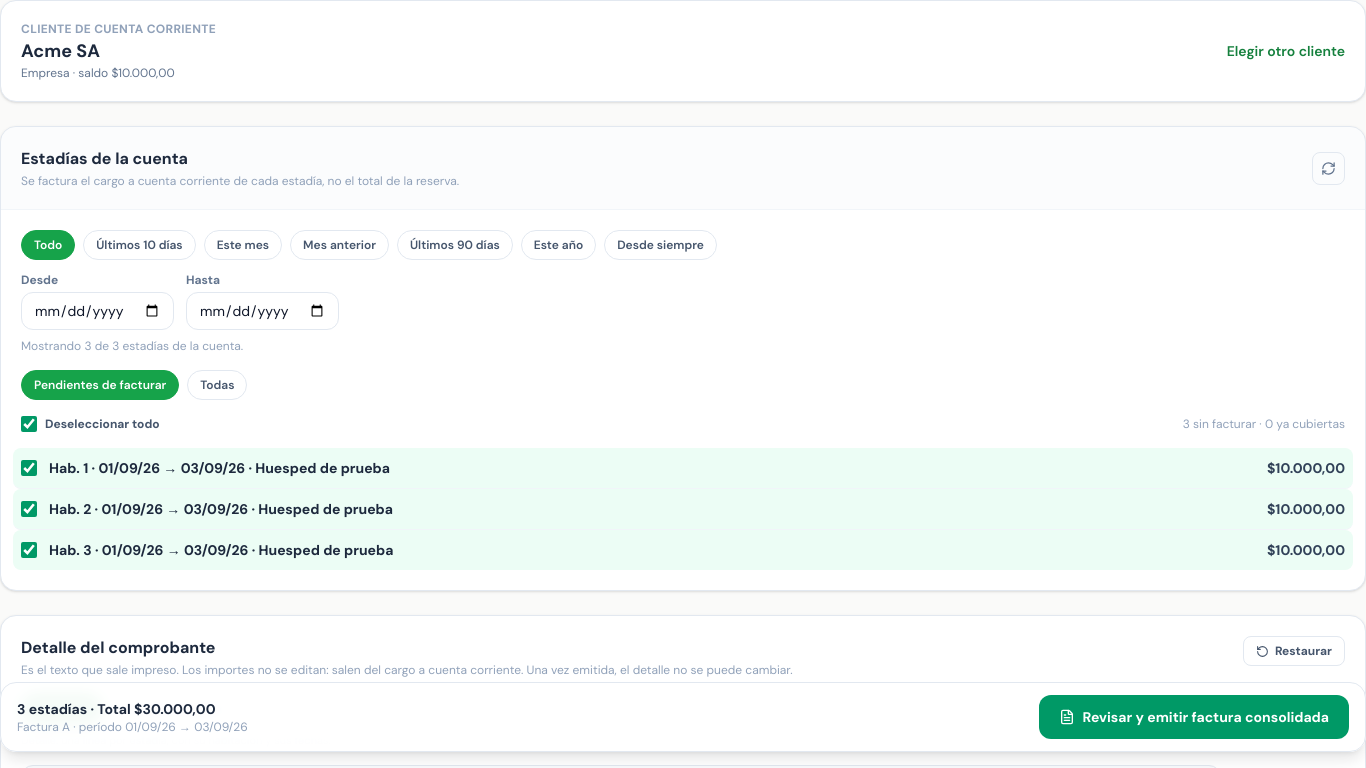
Test case: ConsolidadaClient › el filtro por período acota la lista y el contador dice cuántas quedaron afuera
This screenshot has width=1366, height=768.
Expected: the text "Mostrando 3 de 3 estadías de la cuenta." is shown, 21,338 -> 243,354
Step 1. Click the button "Este año" → (558, 245), box 521,230 -> 596,260
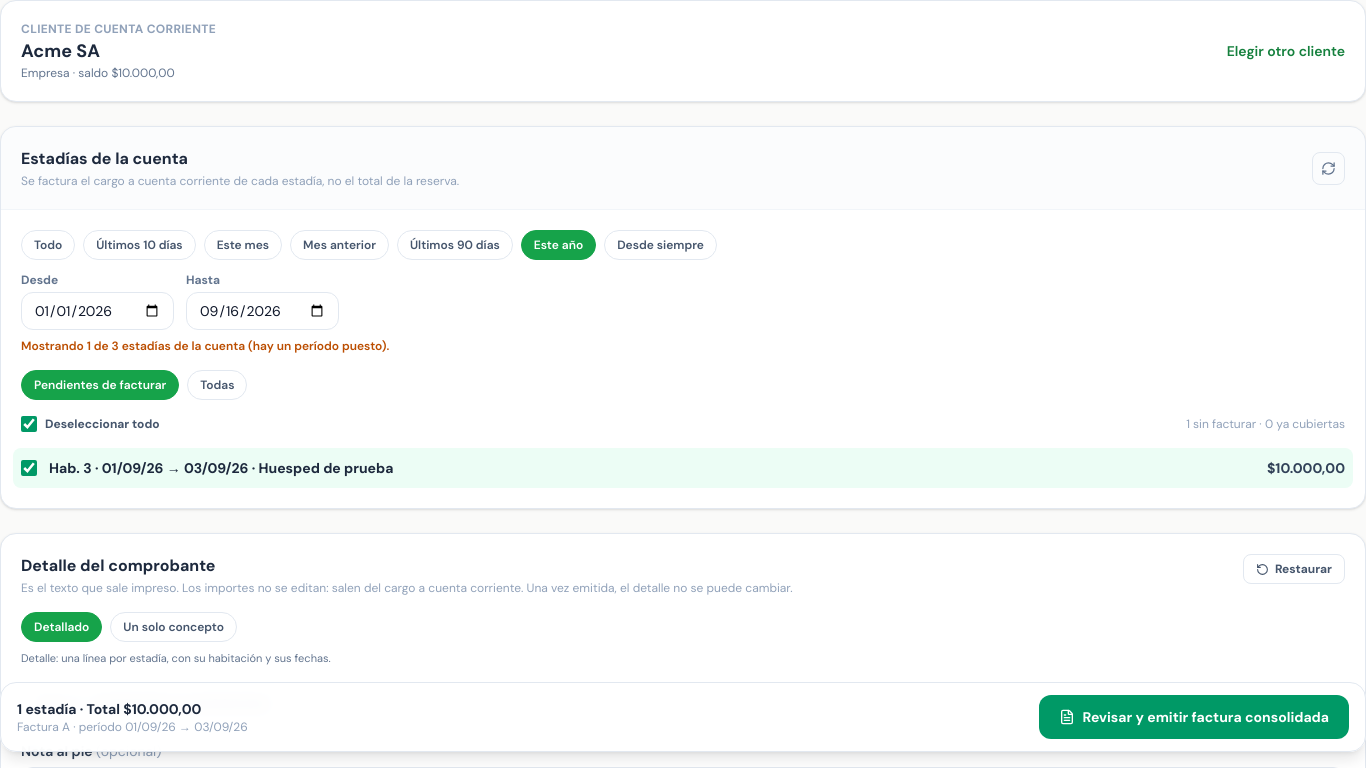
Now the text "Mostrando 1 de 3 estadías" is shown, box 21,338 -> 389,354
